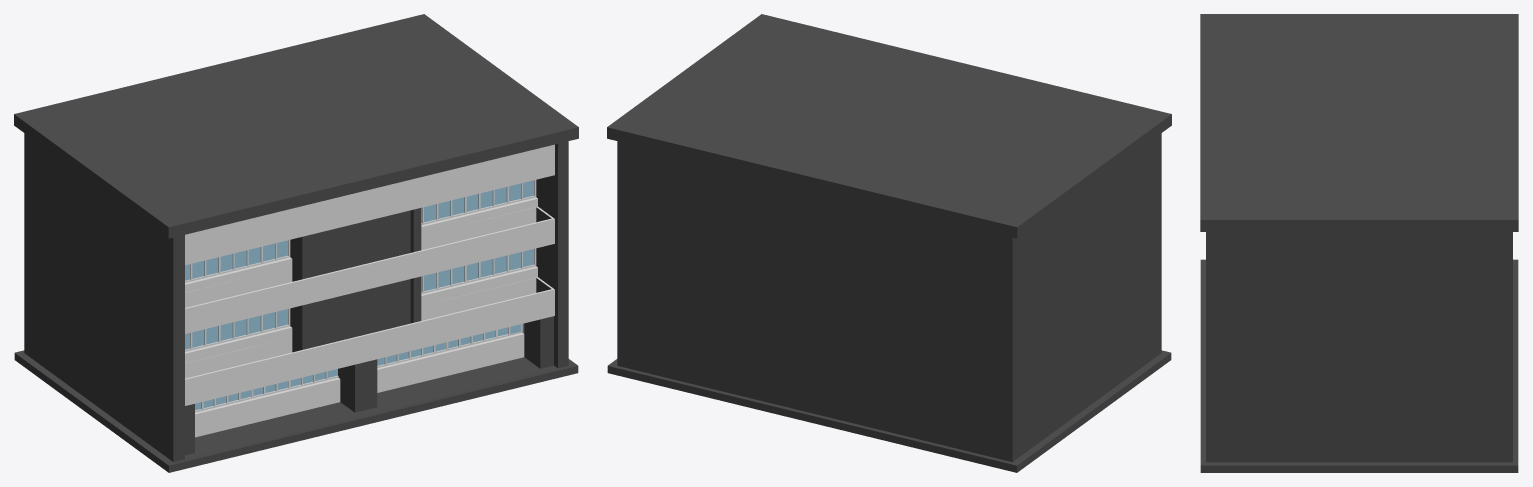
Rendered from building2-2.fbx.
3 views of the same model, side by side, from view 1: azimuth 30°, elevation 25°; view 2: azimuth 150°, elevation 25°; view 3: azimuth 270°, elevation 25° (orthographic). The views are drawn at different scales.
Parts seen in each view (by area): view 1: Cube.008; view 2: Cube.008; view 3: Cube.008.
Part boxes in pixels (x1,y1,x2,y2): Cube.008: [14, 14, 578, 472]; Cube.008: [607, 14, 1171, 472]; Cube.008: [1200, 14, 1518, 472].
Size of the model in its own units: 2565 by 1469 by 1676.
